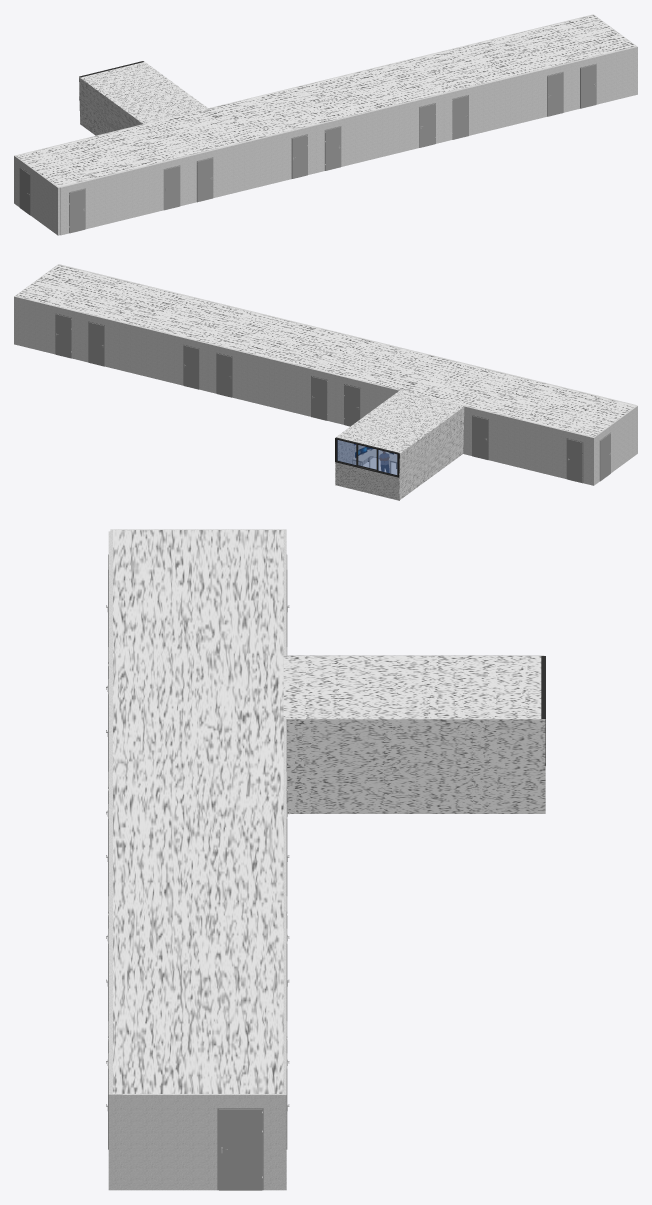
3 views of the same model, one above another, from view 1: azimuth 30°, elevation 25°; view 2: azimuth 150°, elevation 25°; view 3: azimuth 270°, elevation 25° (orthographic). The views are drawn at different scales.
Visible parts, largest first — view 1: Sketchup.007, G-__558444.002, G-__558399, G-__558309, G-__558489, G-__558534.001, G-__558354, G-__558264, G-__558174, G-__558219, G-__557769, 830x2310#1.015 (+9 smaller); view 2: Sketchup.007, G-__558129, G-__558039, G-__557949, G-__558084, G-__557904, G-__557859, G-__557994, G-__557769, F3VTX, G-__557814, 830x2310#1.007 (+8 smaller); view 3: Sketchup.007, G-__557724, 830x2310#1.001.
Boxes of the visible parts, x1=… form: Sketchup.007: x1=16, y1=15, x2=635, y2=186; G-__558444.002: x1=251, y1=124, x2=316, y2=188; G-__558399: x1=124, y1=155, x2=188, y2=219; G-__558309: x1=60, y1=171, x2=124, y2=235; G-__558489: x1=315, y1=109, x2=380, y2=172; G-__558534.001: x1=188, y1=140, x2=252, y2=203; G-__558354: x1=507, y1=62, x2=571, y2=126; G-__558264: x1=571, y1=46, x2=635, y2=110; G-__558174: x1=379, y1=93, x2=443, y2=157; G-__558219: x1=443, y1=77, x2=507, y2=141; G-__557769: x1=14, y1=155, x2=60, y2=235; 830x2310#1.015: x1=547, y1=72, x2=563, y2=116; Sketchup.007: x1=16, y1=265, x2=635, y2=500; G-__558129: x1=527, y1=421, x2=591, y2=485; G-__558039: x1=16, y1=296, x2=80, y2=360; G-__557949: x1=144, y1=328, x2=208, y2=391; G-__558084: x1=463, y1=406, x2=527, y2=469; G-__557904: x1=208, y1=343, x2=272, y2=407; G-__557859: x1=272, y1=359, x2=336, y2=422; G-__557994: x1=80, y1=312, x2=144, y2=375; G-__557769: x1=591, y1=405, x2=637, y2=485; F3VTX: x1=335, y1=437, x2=399, y2=477; G-__557814: x1=336, y1=374, x2=400, y2=424; 830x2310#1.007: x1=88, y1=322, x2=104, y2=366; Sketchup.007: x1=113, y1=530, x2=545, y2=1093; G-__557724: x1=108, y1=1092, x2=286, y2=1190; 830x2310#1.001: x1=219, y1=1109, x2=262, y2=1190.
Bounding box in the file's own units: 31.87 × 10.43 × 2.52.
47 materials, 10 textured.
